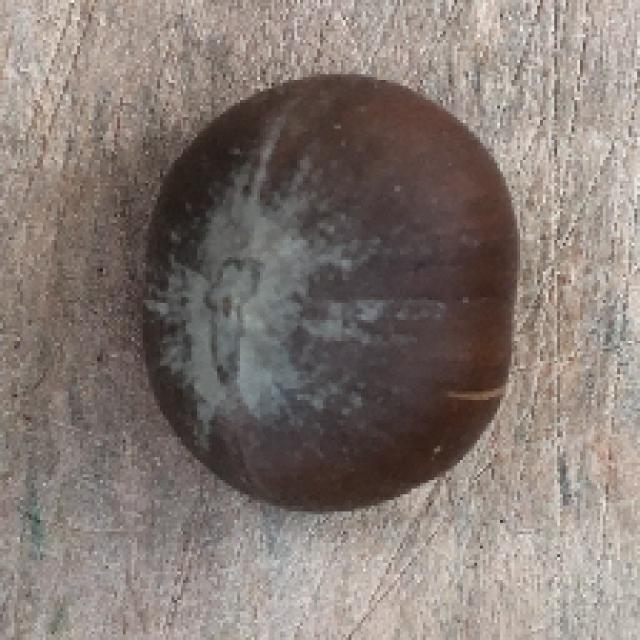damagedHazelnut: (134, 69, 533, 523)
